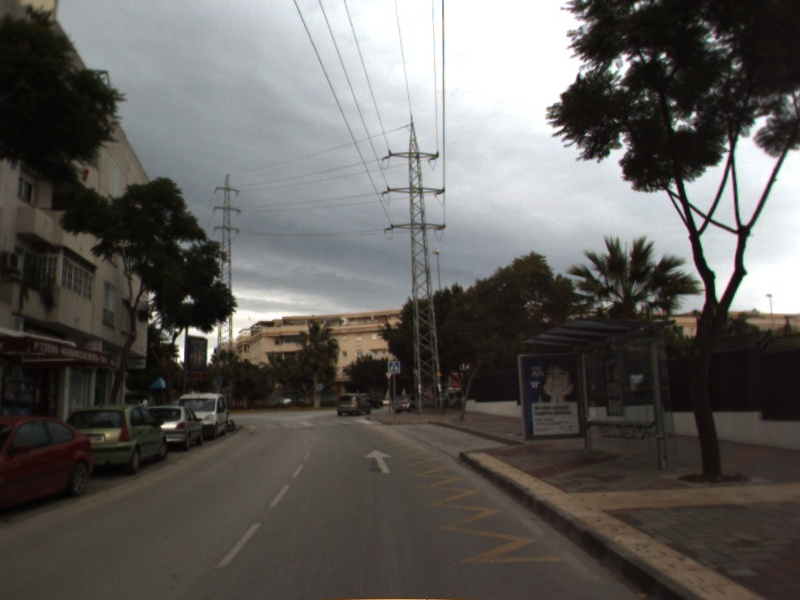STRAIGHT: (362, 448, 395, 475)
